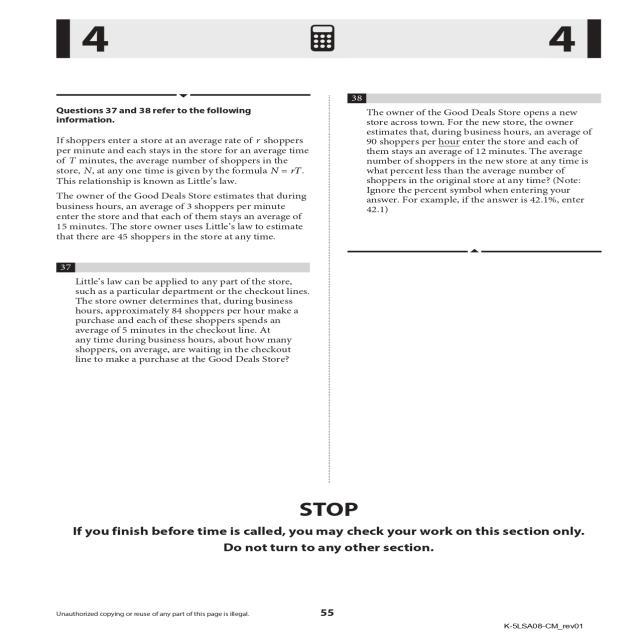Instruction: (47, 84, 320, 245)
Question_Answer_Block: (47, 257, 320, 483), (336, 86, 612, 236)
Question_Block: (47, 257, 320, 483), (336, 86, 612, 236)
Question_Paper_Area: (47, 84, 320, 483), (336, 86, 612, 480)
